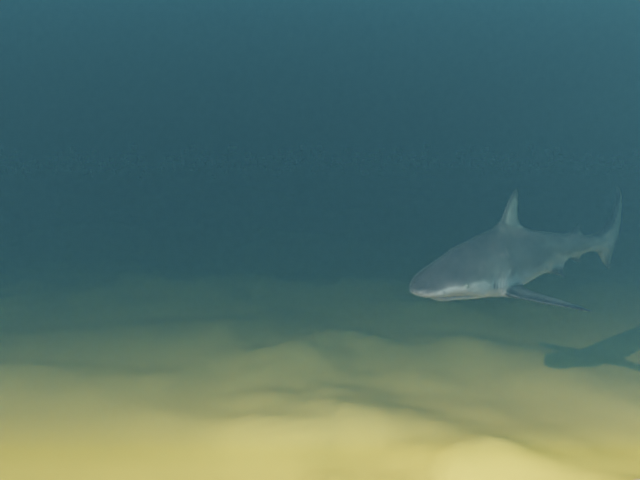Carribean Shark.001: (409, 185, 621, 311)
